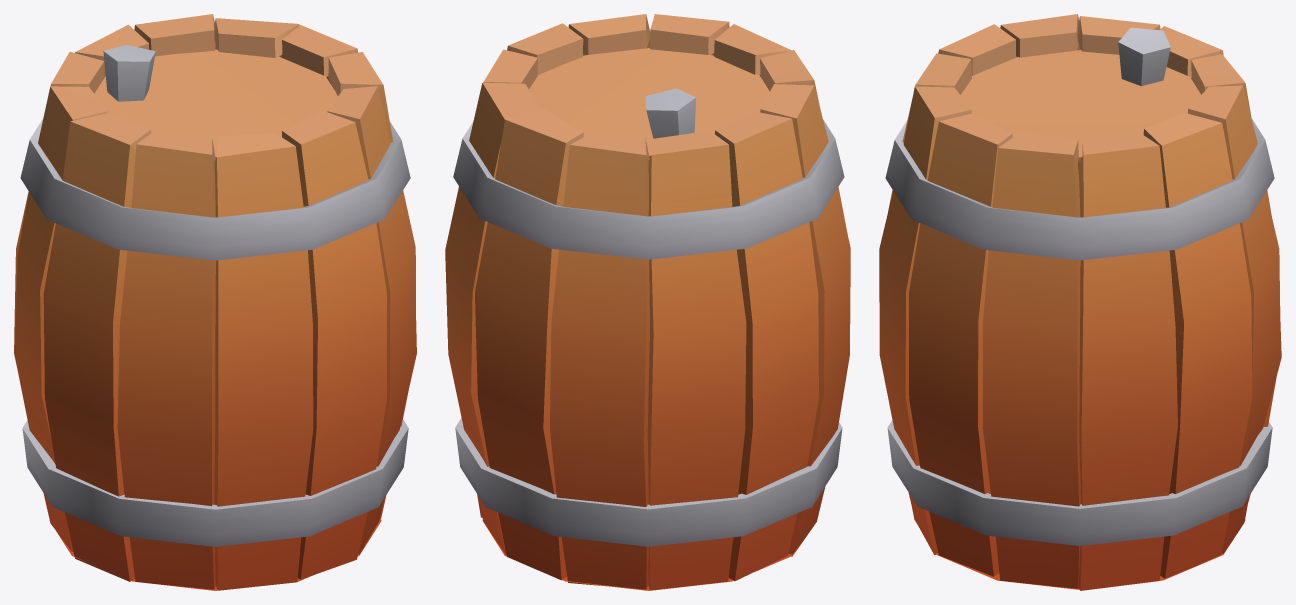
The model's file is SM_Barrel.fbx.
3 renders of one model, left to right at view 1: azimuth 30°, elevation 25°; view 2: azimuth 150°, elevation 25°; view 3: azimuth 270°, elevation 25°, orthographic.
Visible parts, largest first — view 1: SM_Barrel; view 2: SM_Barrel; view 3: SM_Barrel.
Boxes of the visible parts, left/top/right/bottom form: SM_Barrel: left=14, top=14, right=416, bottom=590; SM_Barrel: left=445, top=14, right=850, bottom=590; SM_Barrel: left=879, top=14, right=1281, bottom=590.
Bounding box in the file's own units: 2.35 × 2.99 × 2.37.
